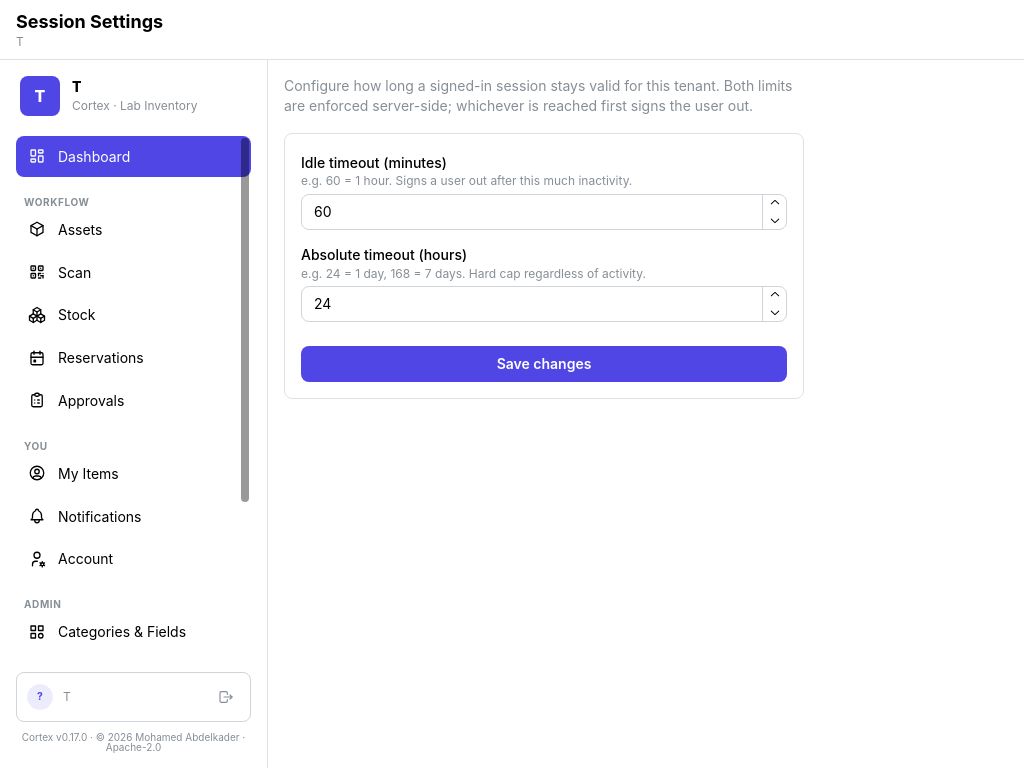
SessionSettingsScreen › saves successfully and updates the displayed values
Replace the text in the field with test id "session-settings-idle-minutes" with "90": (544, 212) [301,194,787,230]
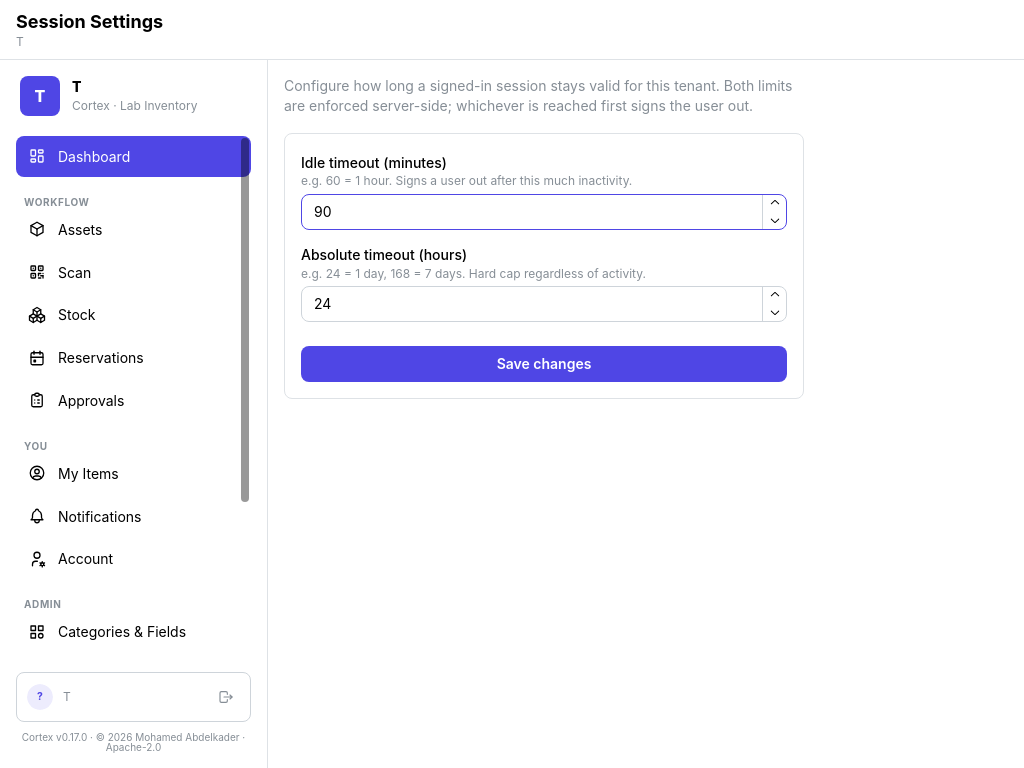
Replace the text in the field with test id "session-settings-absolute-hours" with "48": (544, 304) [301,286,787,322]
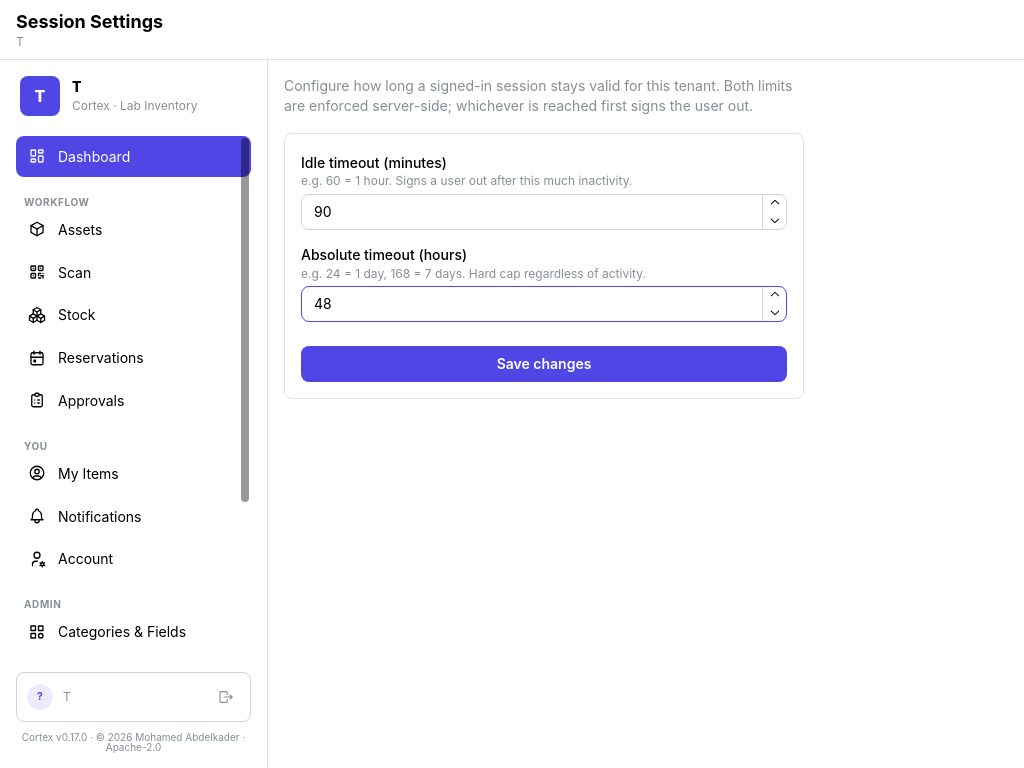
Click the button with test id "session-settings-submit": (544, 364) [301,346,787,382]
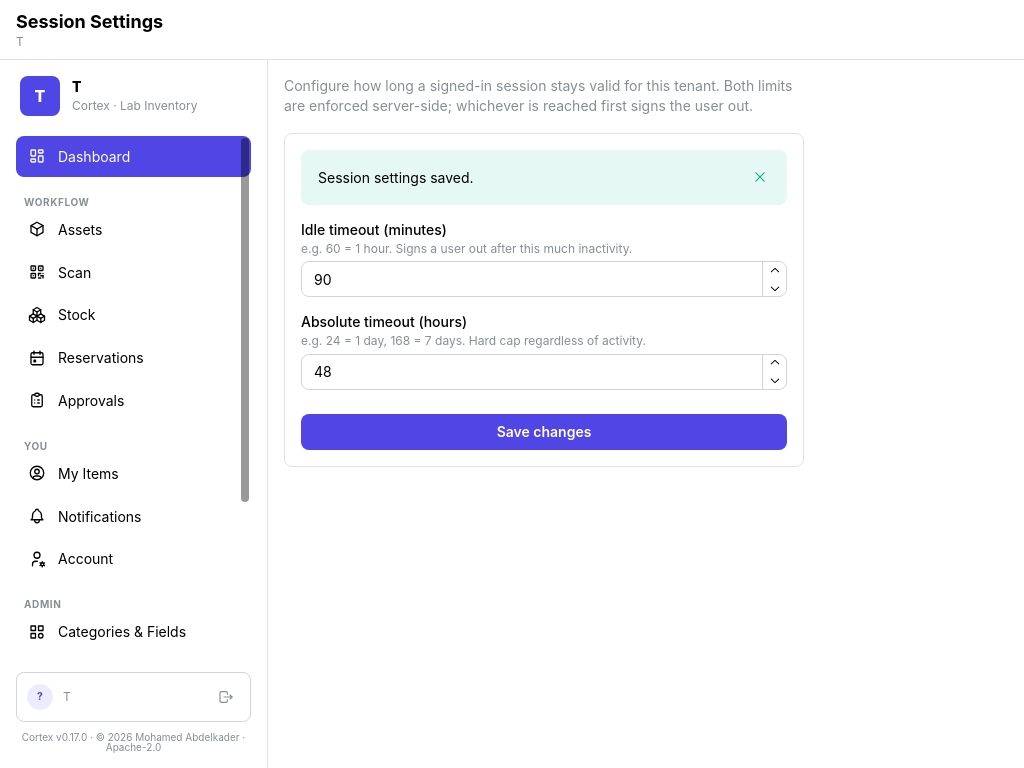
expect the message "Session settings saved." is shown: met, box [301,150,787,205]
